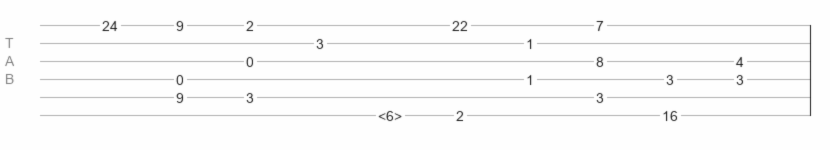0: (176, 72, 184, 82), (246, 54, 254, 64)
1: (526, 36, 534, 46), (526, 72, 534, 82)
16: (662, 108, 678, 118)
2: (246, 18, 254, 28), (456, 108, 464, 118)
22: (452, 18, 468, 28)
24: (102, 18, 118, 28)
3: (246, 90, 254, 100), (316, 36, 324, 46), (596, 90, 604, 100), (666, 72, 674, 82), (736, 72, 744, 82)
4: (736, 54, 744, 64)
7: (596, 18, 604, 28)
8: (596, 54, 604, 64)
9: (176, 18, 184, 28), (176, 90, 184, 100)
harmonic: (378, 108, 402, 118)
